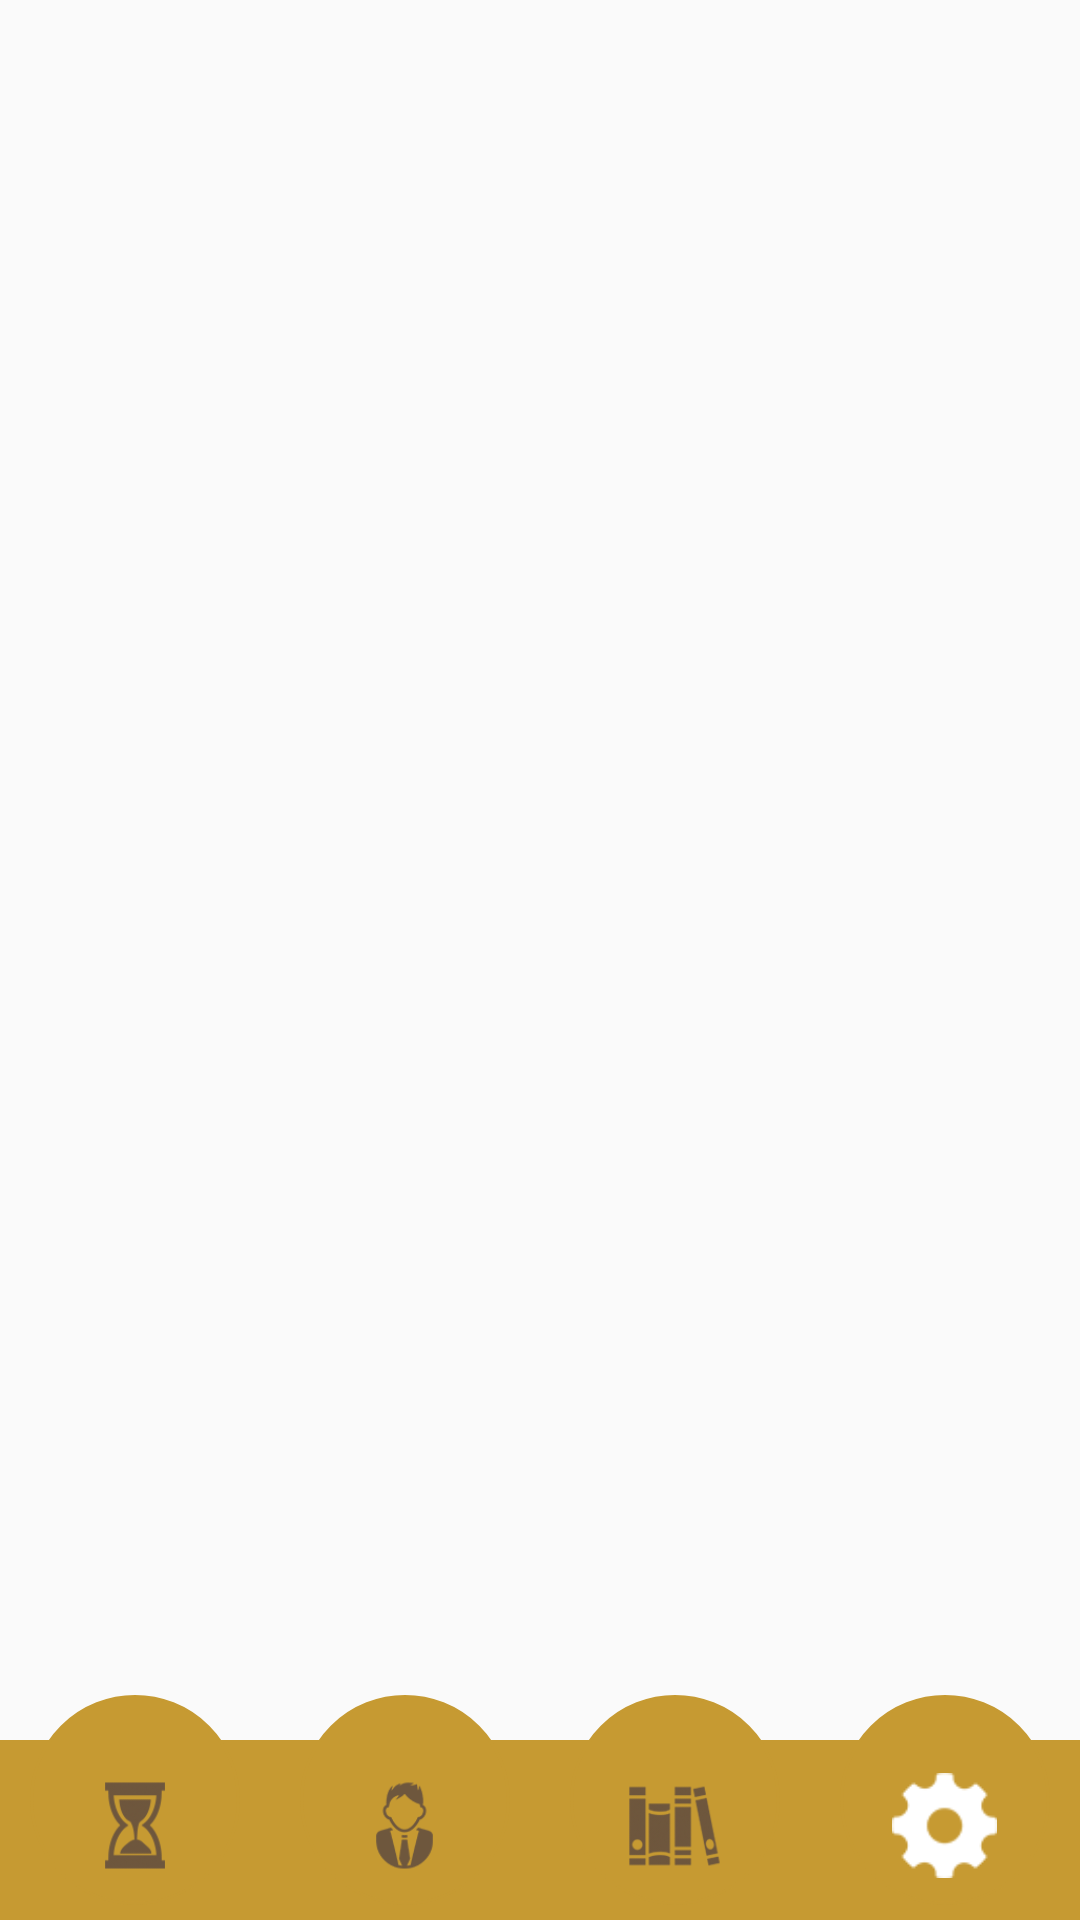

Icons on this 1080px x 1920px Android screen, each with the point to tap as (x=x, y=y):
books: (x=674, y=1826)
loader: (x=135, y=1825)
settings: (x=944, y=1825)
user: (x=404, y=1825)
